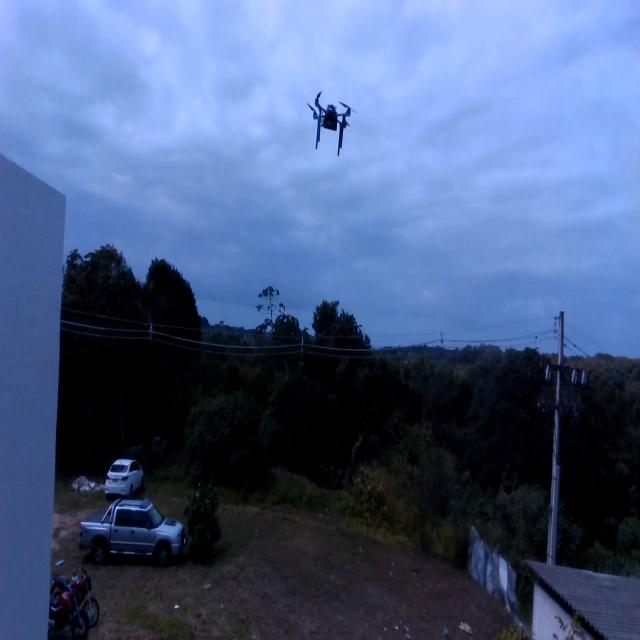-uav-: (303, 80, 362, 164)
